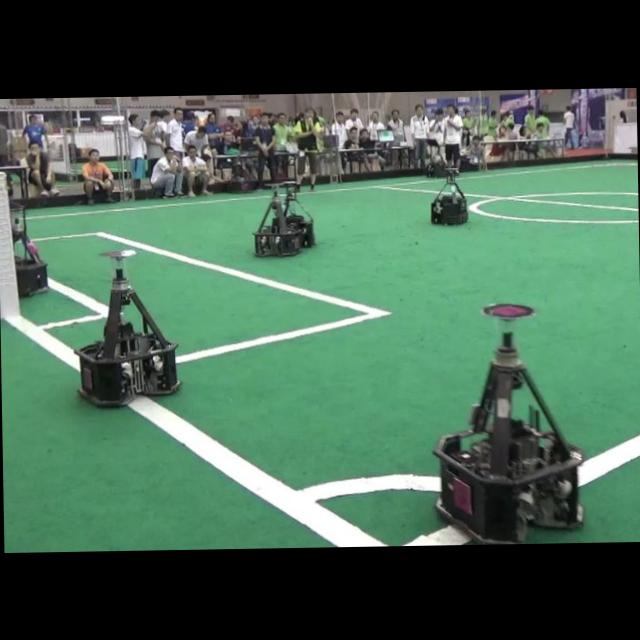robot: (434, 304, 582, 541), (75, 249, 179, 406), (9, 203, 48, 296), (253, 183, 302, 255), (278, 181, 315, 247), (430, 167, 467, 224)
